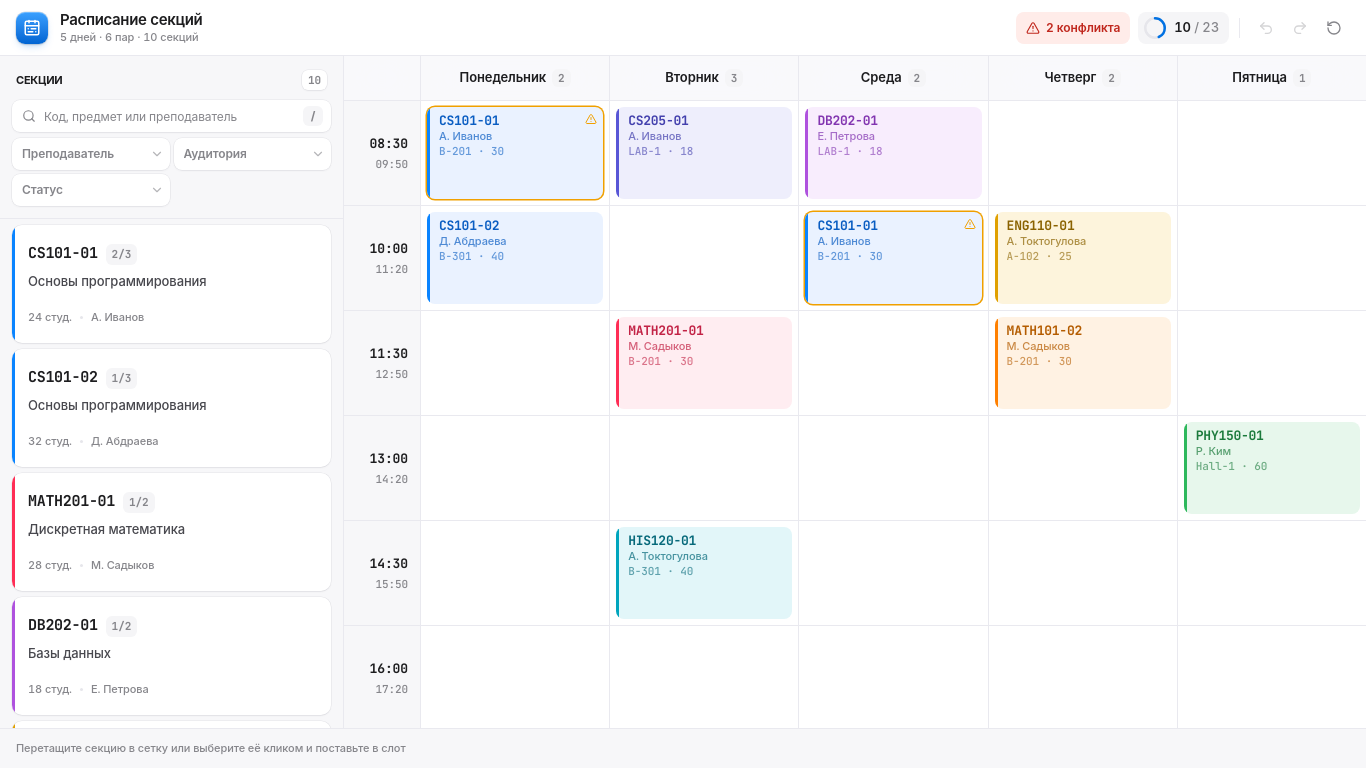
it: рабочий экран › фильтрует секции по преподавателю
Step 1. Click the dropdown named "Фильтр по преподавателю" → (91, 154), box [12,138,170,170]
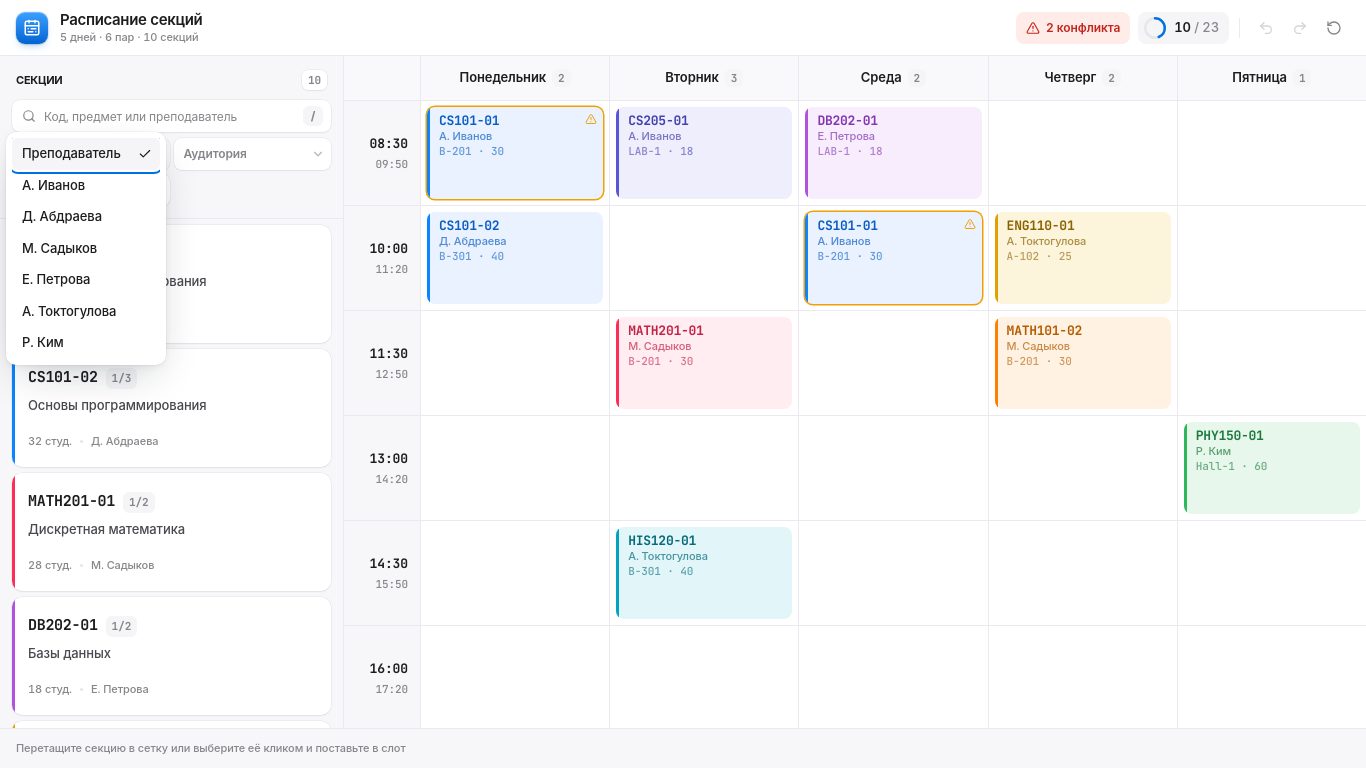
Step 2. Click the option "Е. Петрова" → (56, 279), box [22,271,90,287]
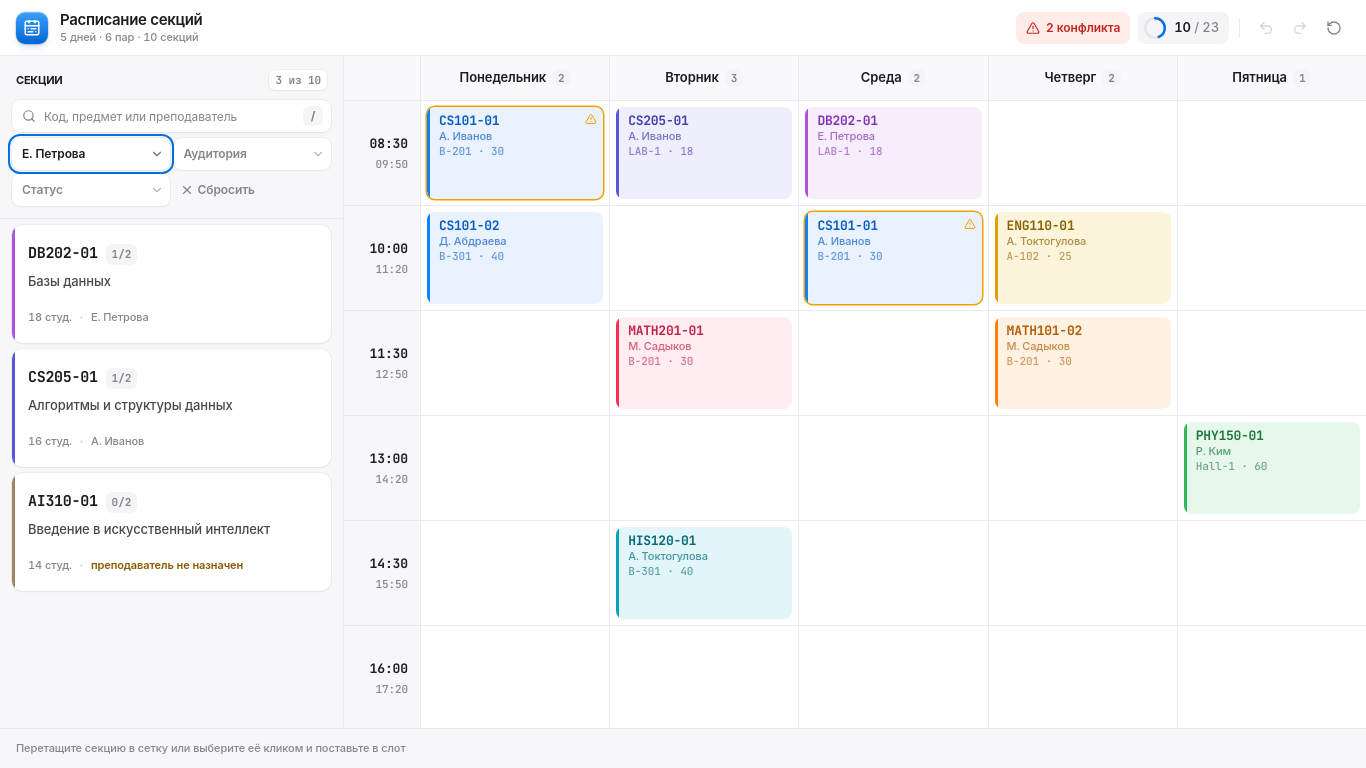
Expected: the button "DB202-01 1/2 Базы данных 18 студ. Е. Петрова" is shown, [12,225,331,343]
Now the button "CS205-01 1/2 Алгоритмы и структуры данных 16 студ. А. Иванов" is shown, box [12,349,331,467]
Now the button that starts with "AI310-01" is shown, box [12,473,331,591]
